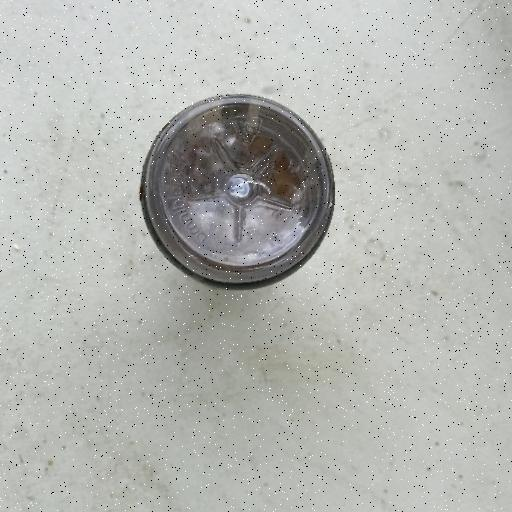Plastic: (137, 91, 337, 289)
